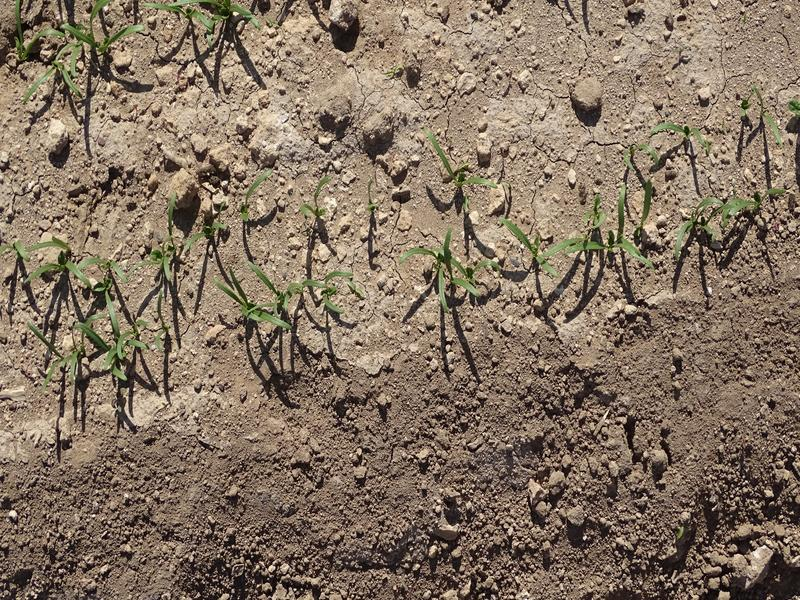Espinaca: (16, 228, 145, 402), (31, 5, 143, 104), (223, 263, 352, 333), (395, 234, 499, 309), (501, 219, 608, 286), (674, 187, 756, 261), (146, 3, 266, 43), (423, 125, 495, 190), (155, 193, 203, 289), (615, 187, 656, 268), (653, 120, 712, 150), (241, 169, 273, 223), (305, 174, 338, 219)
